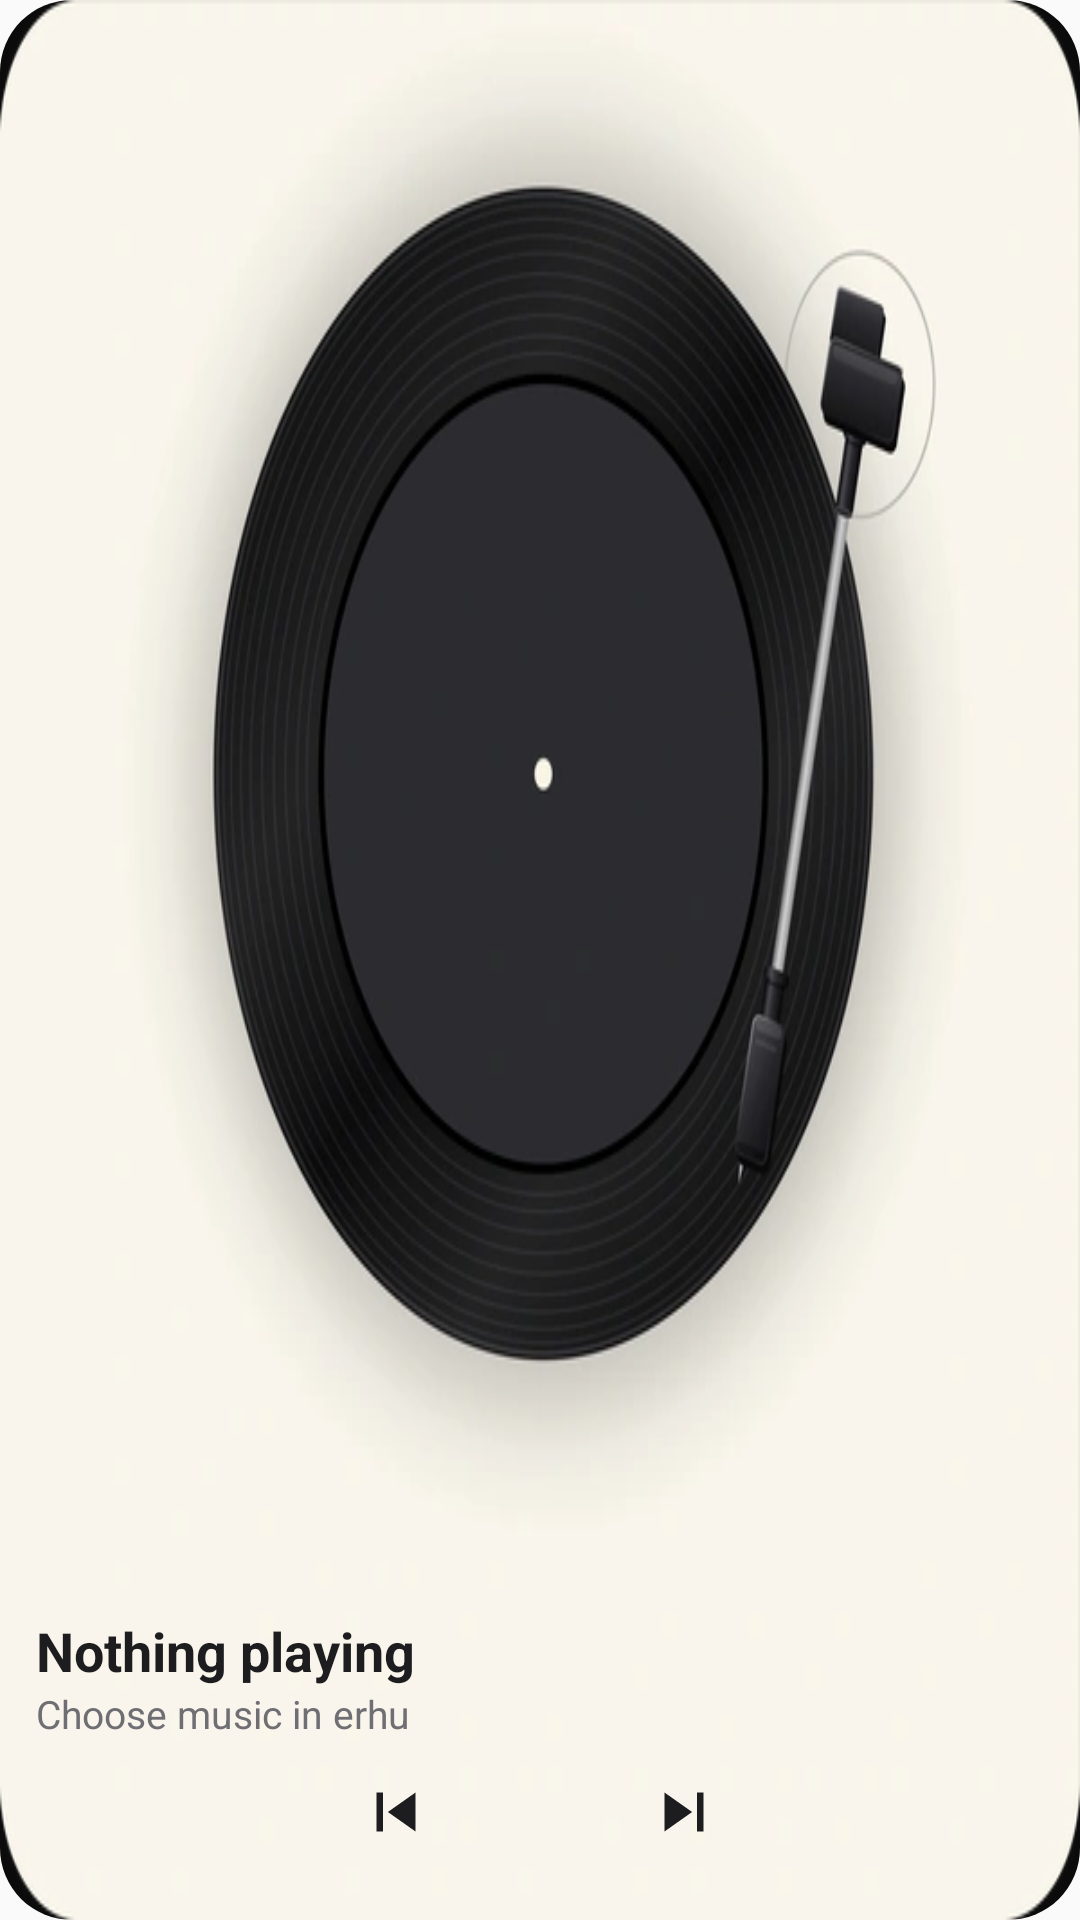

Where to tap for icons on this 1080 x 1920 app screen, as point (x, y):
Next: point (684, 1812)
Previous: point (396, 1812)
